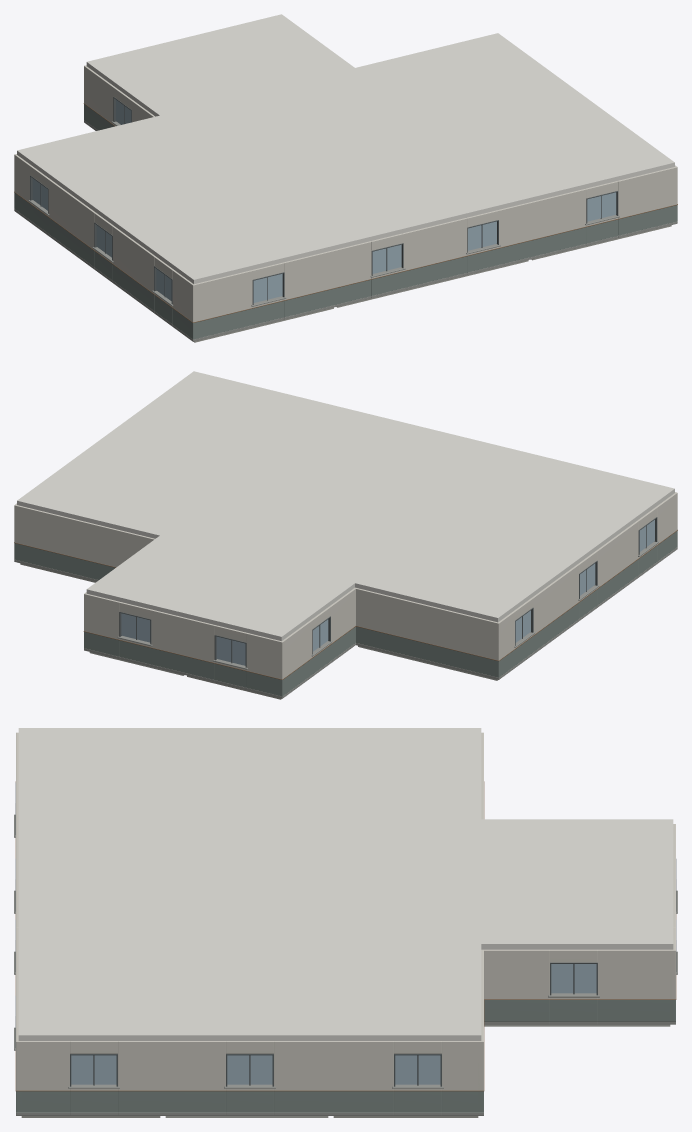
The model's file is StationRebuild.fbx.
The picture shows the model from 3 angles, top to bottom: view 1: azimuth 30°, elevation 25°; view 2: azimuth 150°, elevation 25°; view 3: azimuth 270°, elevation 25°; orthographic projection. The views are drawn at different scales.
Visible parts, largest first — view 1: Ceiling_0_-2_Ceiling, Ceiling_0_-1_Ceiling, Ceiling_-2_-1_Ceiling, Ceiling_1_-1_Ceiling, Ceiling_-2_-2_Ceiling, Ceiling_1_-2_Ceiling, Ceiling_-2_0_Ceiling, Ceiling_1_0_Ceiling, Ceiling_-1_1_Ceiling, Ceiling_0_1_Ceiling, Ceiling_0_0_Ceiling, Shell_-2_-3_Plaster (+22 smaller); view 2: Ceiling_0_-2_Ceiling, Ceiling_0_-1_Ceiling, Ceiling_-2_-1_Ceiling, Ceiling_1_-1_Ceiling, Ceiling_-2_0_Ceiling, Ceiling_1_0_Ceiling, Ceiling_-2_-2_Ceiling, Ceiling_-1_1_Ceiling, Ceiling_1_-2_Ceiling, Ceiling_0_1_Ceiling, Shell_-2_0_Plaster, Ceiling_0_0_Ceiling (+20 smaller); view 3: Ceiling_0_-2_Ceiling, Ceiling_0_-1_Ceiling, Ceiling_1_-1_Ceiling, Ceiling_-2_-1_Ceiling, Ceiling_1_0_Ceiling, Ceiling_1_-2_Ceiling, Ceiling_-2_0_Ceiling, Ceiling_-2_-2_Ceiling, Ceiling_0_1_Ceiling, Ceiling_-1_1_Ceiling, Ceiling_0_0_Ceiling, Shell_1_1_Plaster (+18 smaller).
Boxes of the visible parts, left/top/right/bottom form: Ceiling_0_-2_Ceiling: left=264, top=144, right=531, bottom=248; Ceiling_0_-1_Ceiling: left=236, top=86, right=457, bottom=190; Ceiling_-2_-1_Ceiling: left=74, top=157, right=281, bottom=243; Ceiling_1_-1_Ceiling: left=413, top=75, right=618, bottom=156; Ceiling_-2_-2_Ceiling: left=138, top=204, right=337, bottom=283; Ceiling_1_-2_Ceiling: left=476, top=122, right=674, bottom=201; Ceiling_-2_0_Ceiling: left=17, top=115, right=216, bottom=196; Ceiling_1_0_Ceiling: left=355, top=33, right=554, bottom=109; Ceiling_-1_1_Ceiling: left=86, top=38, right=256, bottom=116; Ceiling_0_1_Ceiling: left=185, top=14, right=354, bottom=91; Ceiling_0_0_Ceiling: left=160, top=68, right=379, bottom=135; Shell_-2_-3_Plaster: left=252, top=241, right=371, bottom=307; Ceiling_0_-2_Ceiling: left=264, top=406, right=530, bottom=507; Ceiling_0_-1_Ceiling: left=188, top=460, right=457, bottom=551; Ceiling_-2_-1_Ceiling: left=412, top=494, right=619, bottom=580; Ceiling_1_-1_Ceiling: left=74, top=411, right=281, bottom=493; Ceiling_-2_0_Ceiling: left=355, top=541, right=555, bottom=622; Ceiling_1_0_Ceiling: left=17, top=459, right=216, bottom=538; Ceiling_-2_-2_Ceiling: left=477, top=453, right=674, bottom=532; Ceiling_-1_1_Ceiling: left=184, top=559, right=354, bottom=641; Ceiling_1_-2_Ceiling: left=139, top=371, right=336, bottom=446; Ceiling_0_1_Ceiling: left=86, top=535, right=257, bottom=617; Shell_-2_0_Plaster: left=356, top=588, right=500, bottom=660; Ceiling_0_0_Ceiling: left=161, top=515, right=382, bottom=582; Ceiling_0_-2_Ceiling: left=18, top=819, right=211, bottom=943; Ceiling_0_-1_Ceiling: left=210, top=819, right=415, bottom=943; Ceiling_1_-1_Ceiling: left=162, top=944, right=331, bottom=1040; Ceiling_-2_-1_Ceiling: left=162, top=728, right=331, bottom=819; Ceiling_1_0_Ceiling: left=330, top=943, right=481, bottom=1040; Ceiling_1_-2_Ceiling: left=18, top=944, right=163, bottom=1040; Ceiling_-2_0_Ceiling: left=330, top=728, right=481, bottom=819; Ceiling_-2_-2_Ceiling: left=18, top=728, right=163, bottom=819; Ceiling_0_1_Ceiling: left=480, top=881, right=673, bottom=949; Ceiling_-1_1_Ceiling: left=480, top=819, right=673, bottom=881; Ceiling_0_0_Ceiling: left=408, top=819, right=481, bottom=943; Shell_1_1_Plaster: left=484, top=948, right=675, bottom=999.
Bounding box in the file's own units: 3067 × 386 × 2767.
